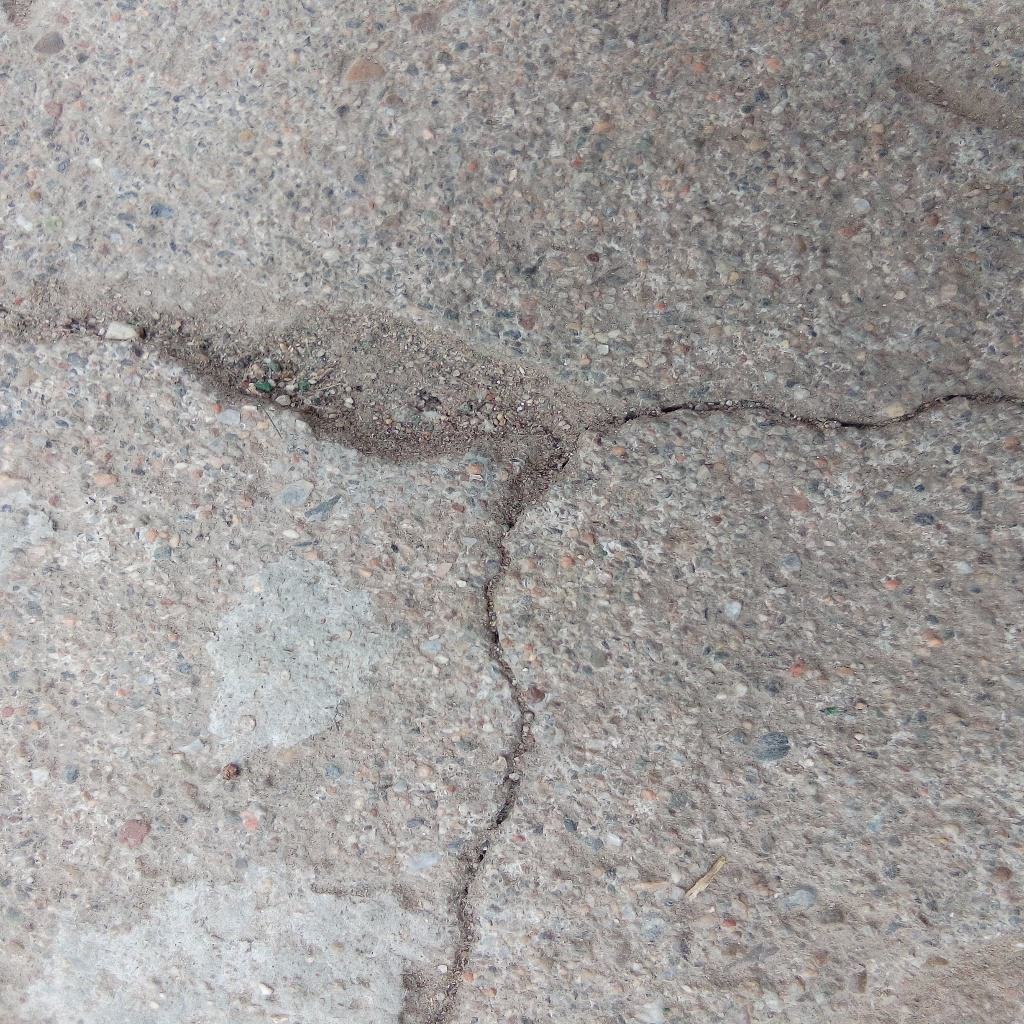Crack: (1, 302, 610, 523), (442, 523, 536, 1024), (611, 391, 1024, 432)
